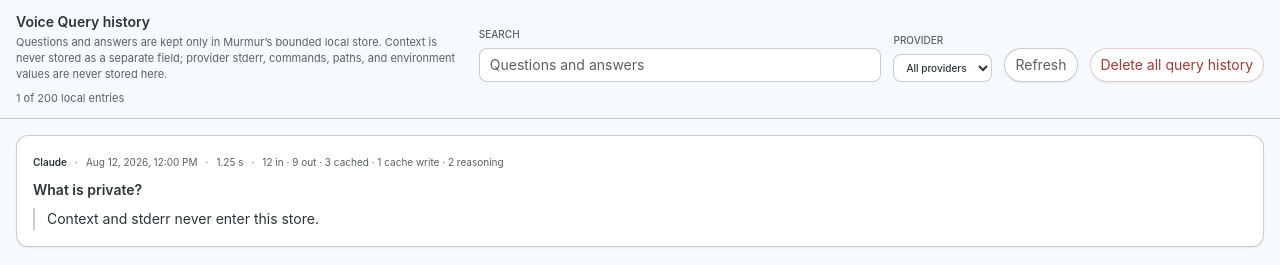
Test: QueryHistoryPanel › filters by provider and requires a second click before purging
Select "Codex" in the dropdown labelled "Provider" at (943, 68), box [894,54,992,82]
Click the button "Delete all query history" at (1177, 65), box [1090,48,1264,82]
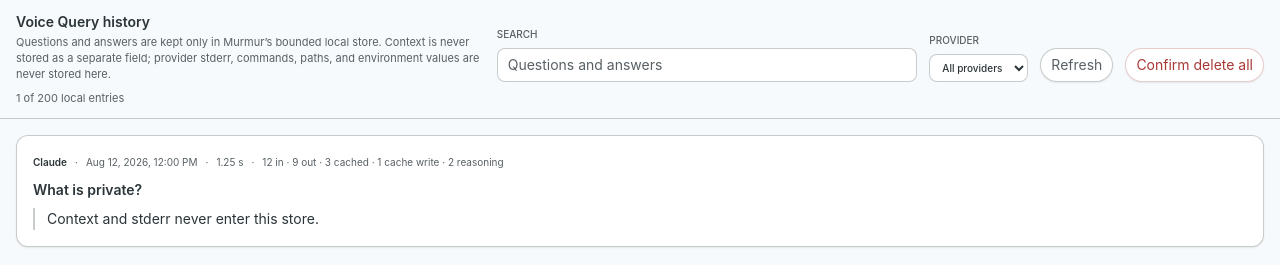
Check: the button "Confirm delete all" is shown
Click the button "Confirm delete all" at (1195, 65), box [1125,48,1264,82]
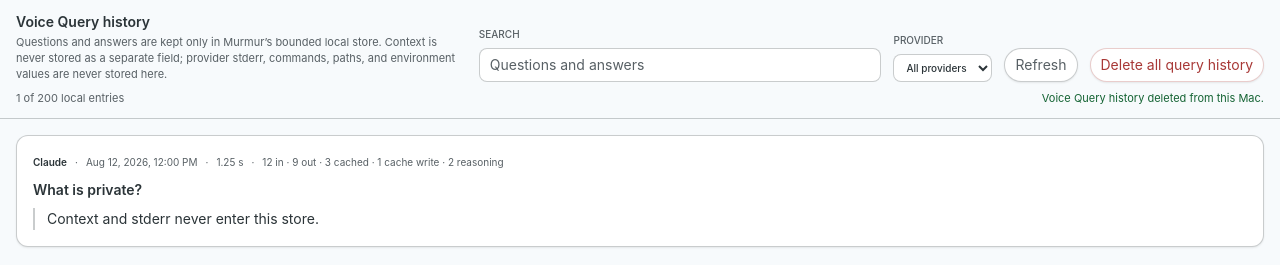
Check: the text "Voice Query history deleted from this Mac." is shown, box [1042,90,1264,106]
